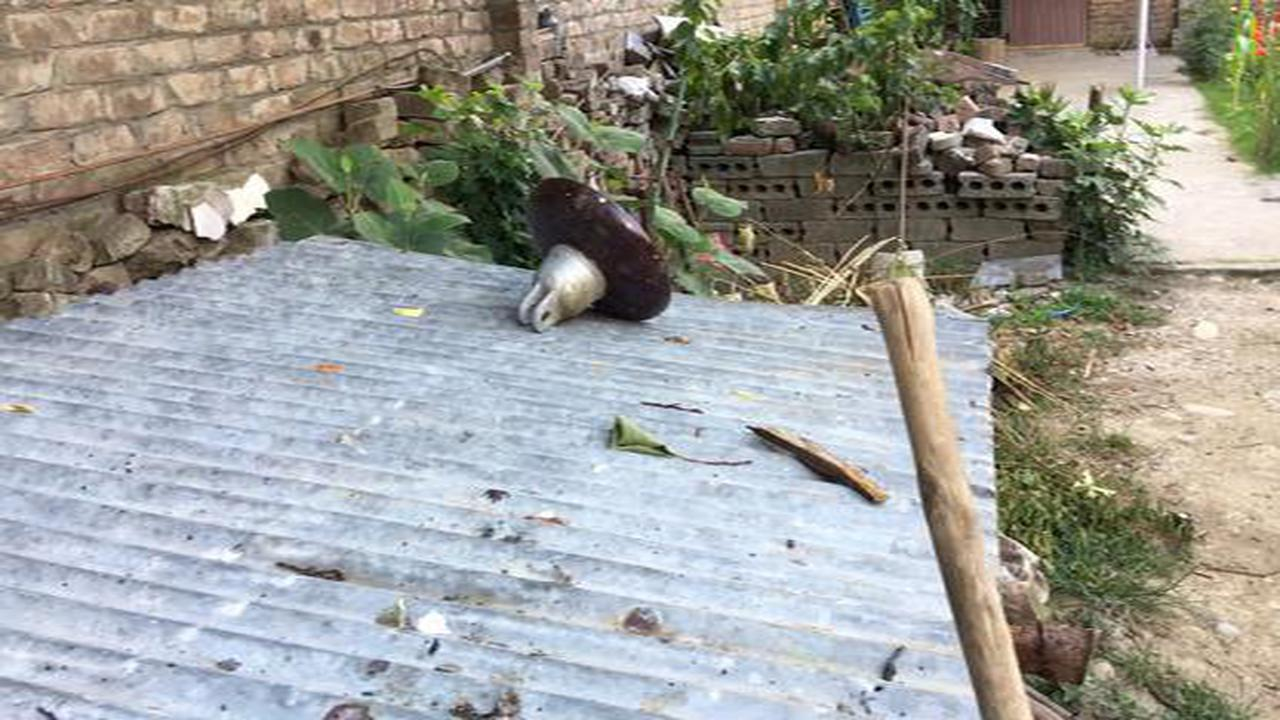insulator_disc: (515, 173, 678, 335)
